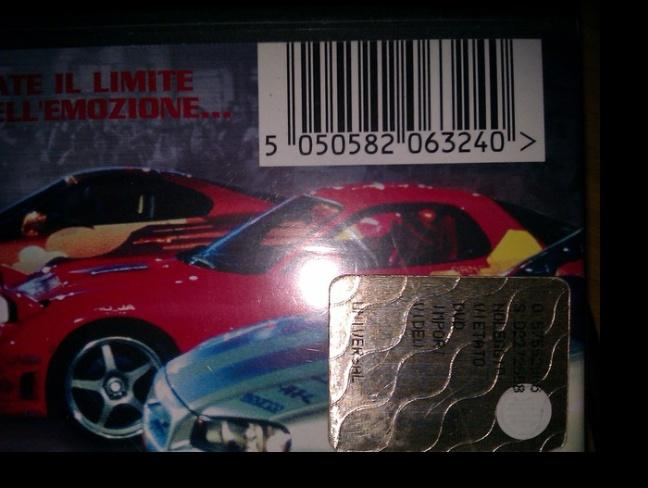Barcode: (258, 36, 546, 163)
